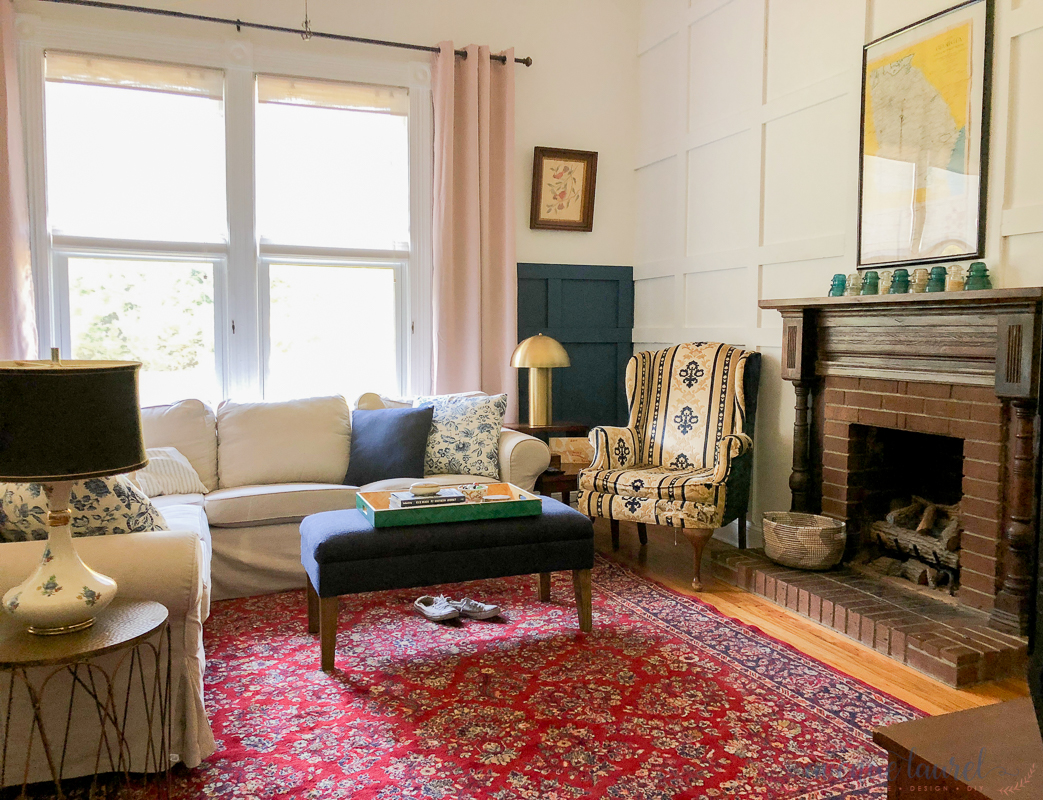biru: (352, 408, 426, 476)
hitam: (300, 512, 596, 584), (1, 363, 142, 477)
putih: (8, 518, 120, 636), (219, 408, 351, 480)
